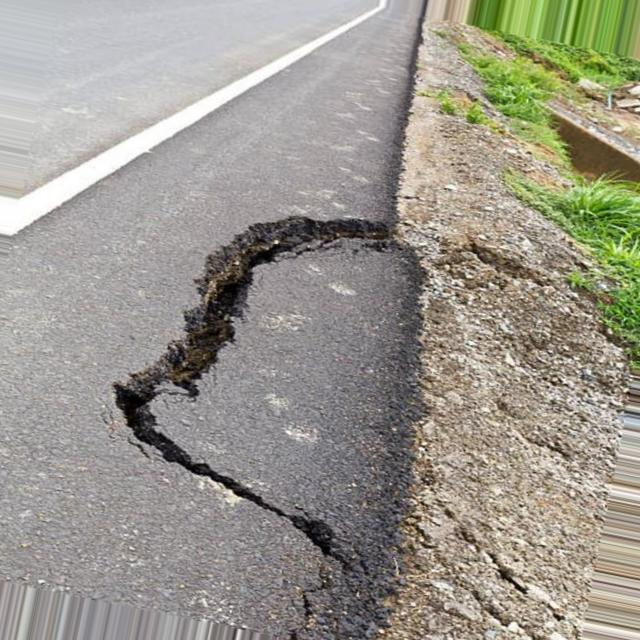Pinggir: (89, 204, 462, 581)
